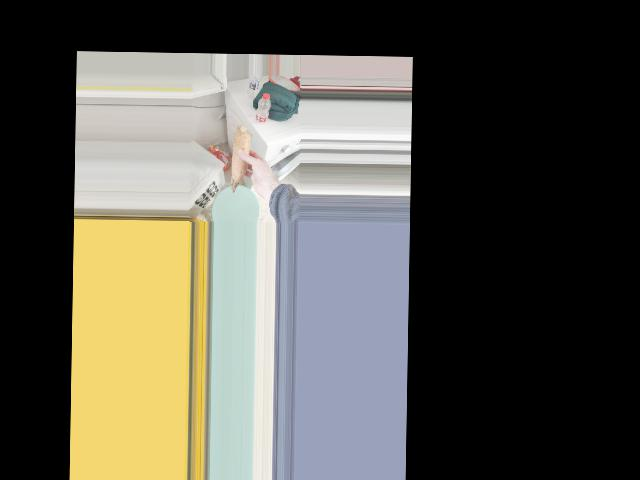sweet_potato: (231, 125, 251, 190)
